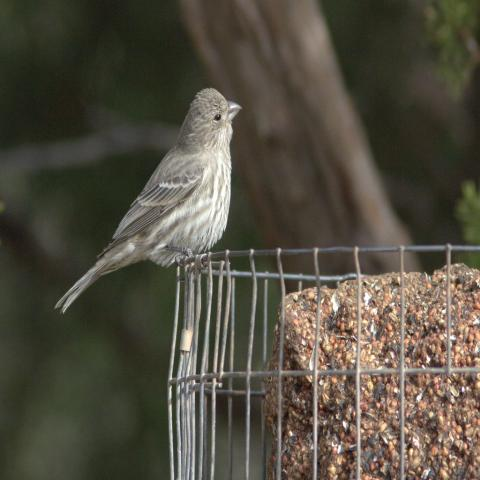bird: (53, 85, 243, 315)
